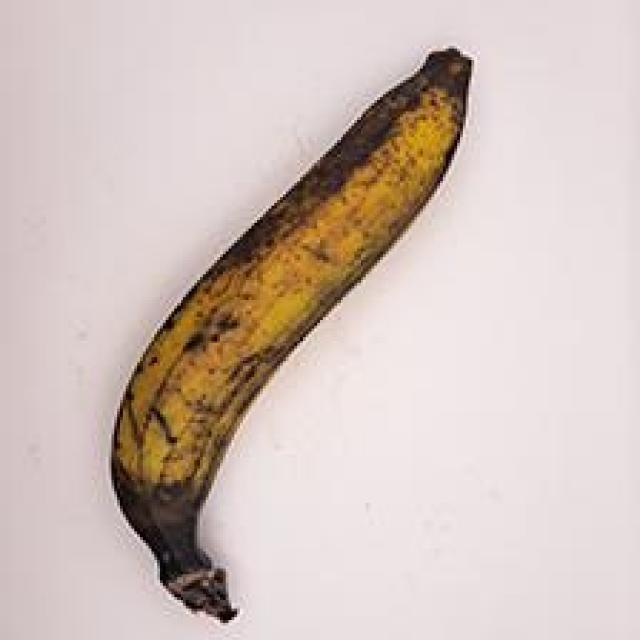Overripe: (80, 33, 489, 614)
